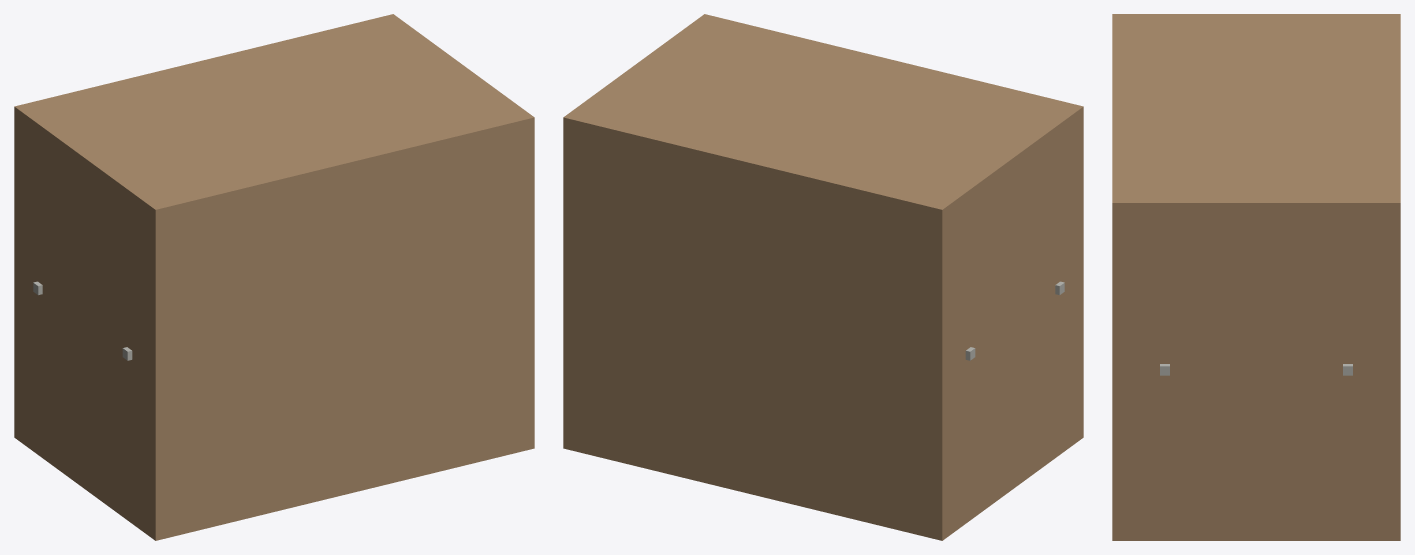
Rendered from hay_bale.gltf.
The picture shows the model from 3 angles, left to right: view 1: azimuth 30°, elevation 25°; view 2: azimuth 150°, elevation 25°; view 3: azimuth 270°, elevation 25°; orthographic projection. The views are drawn at different scales.
Parts seen in each view (by area): view 1: Bale; view 2: Bale; view 3: Bale.
Part boxes in pixels (x1,y1,x2,y2): Bale: (14, 14, 534, 540); Bale: (563, 14, 1083, 540); Bale: (1112, 14, 1400, 540).
Bounding box in the file's own units: 1.3 × 1.06 × 0.82.
